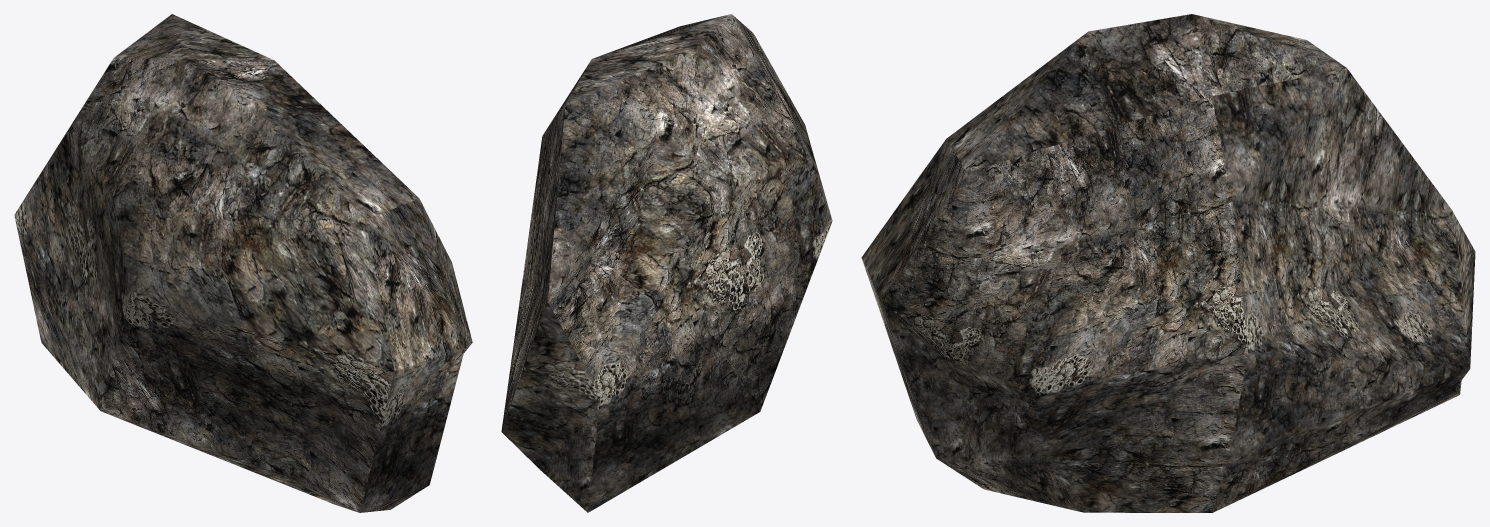
Rendered from pir_m_prp_dvj_rockBare_d.fbx.
The picture shows the model from 3 angles, left to right: view 1: azimuth 30°, elevation 25°; view 2: azimuth 150°, elevation 25°; view 3: azimuth 270°, elevation 25°; orthographic projection. The views are drawn at different scales.
Parts seen in each view (by area): view 1: lod_high; view 2: lod_high; view 3: lod_high.
Boxes of the visible parts, left/top/right/bottom form: lod_high: left=14, top=14, right=472, bottom=512; lod_high: left=501, top=14, right=832, bottom=512; lod_high: left=861, top=14, right=1475, bottom=512.
Bounding box in the file's own units: 2388 × 3153 × 4162.
Materials: 1 (1 with a texture image).
